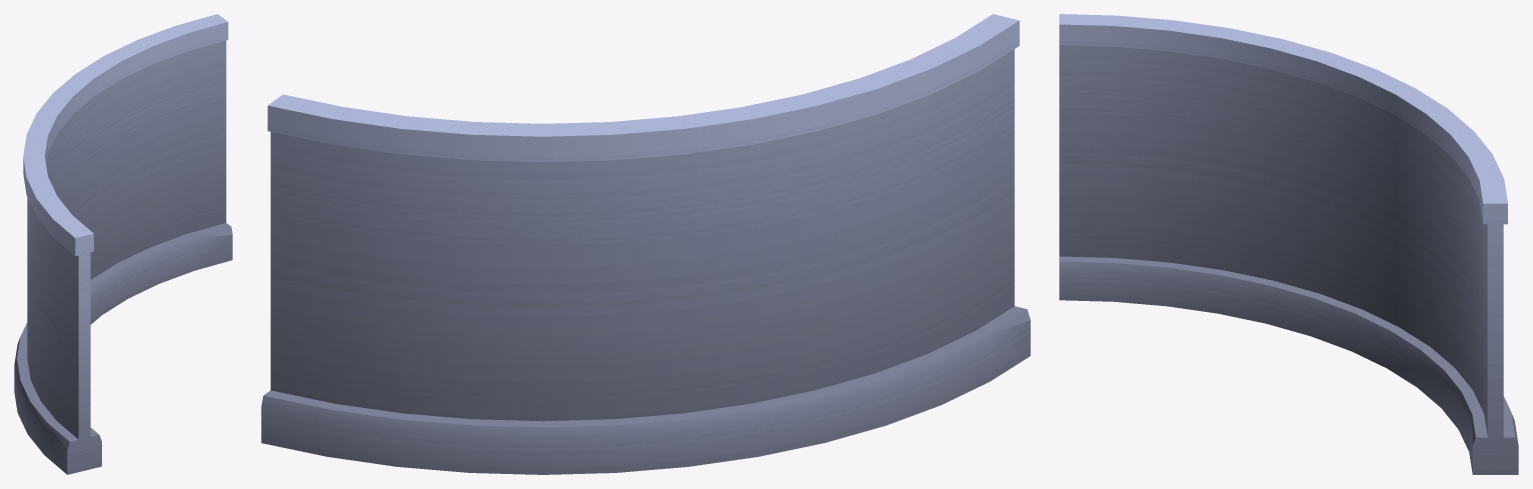
The model's file is stone-wall-curve.glb.
3 renders of one model, left to right at view 1: azimuth 30°, elevation 25°; view 2: azimuth 150°, elevation 25°; view 3: azimuth 270°, elevation 25°, orthographic. The views are drawn at different scales.
Parts seen in each view (by area): view 1: stone-wall-curve; view 2: stone-wall-curve; view 3: stone-wall-curve.
Boxes of the visible parts, <box> form: stone-wall-curve: <box>14,14,232,474</box>; stone-wall-curve: <box>261,14,1030,474</box>; stone-wall-curve: <box>1059,14,1518,474</box>.
Bounding box in the file's own units: 3 × 1.96 × 3.
1 material, 1 textured.
